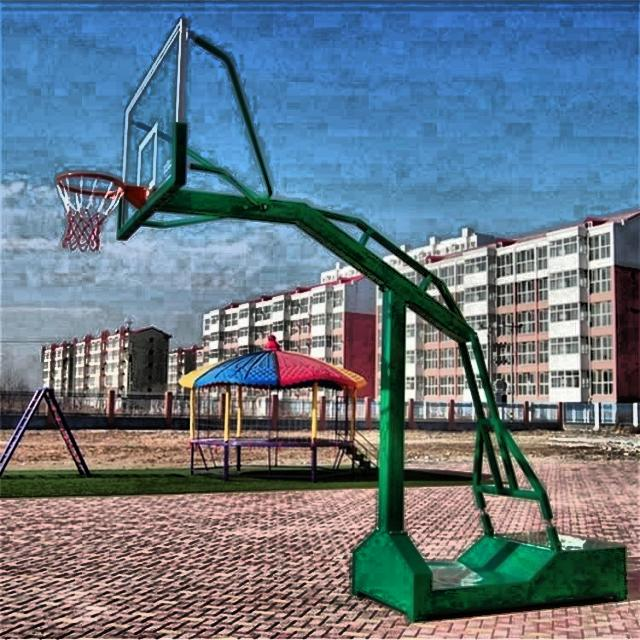rim: (57, 170, 120, 252)
